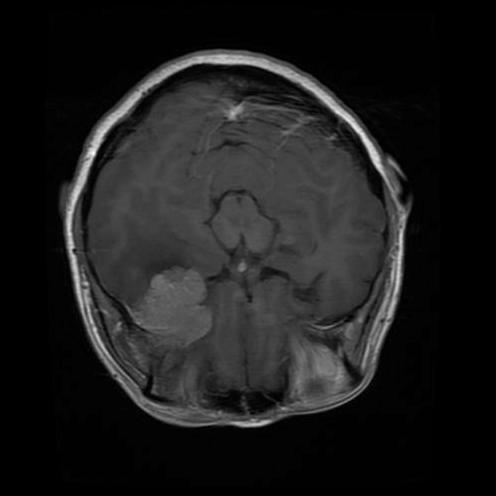Tumour-Pituitary: (103, 247, 236, 364)
